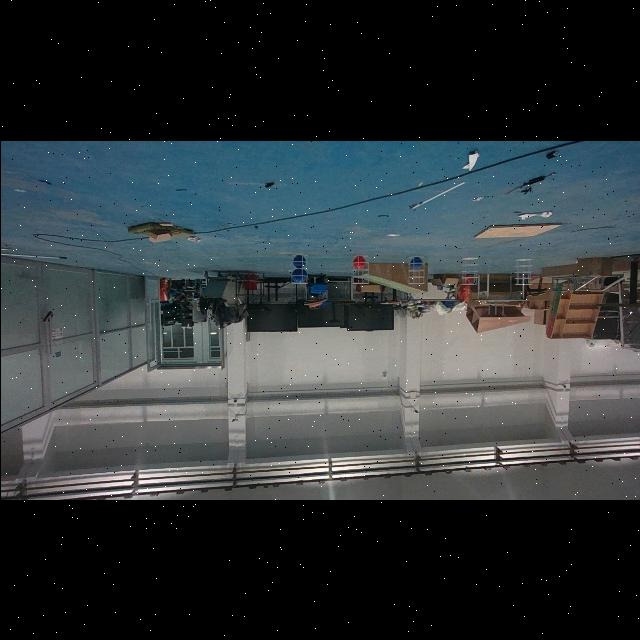B: (288, 268, 306, 282), (408, 256, 422, 270), (291, 255, 305, 267)
R: (351, 255, 365, 267)
S: (286, 250, 310, 286), (404, 252, 426, 286), (457, 254, 479, 286), (348, 252, 368, 286), (512, 256, 534, 286)
